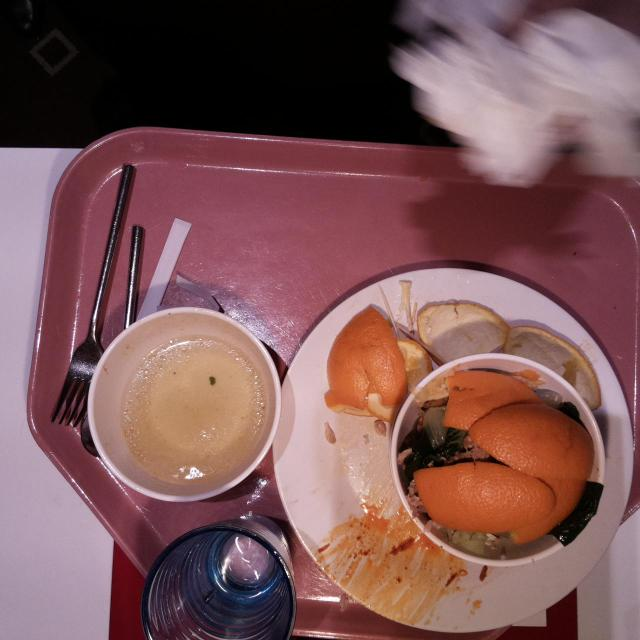Orange-peel: (467, 407, 589, 511), (413, 459, 569, 534), (326, 305, 406, 417), (504, 324, 602, 414), (443, 371, 547, 433), (416, 300, 510, 356)
Vegetable: (400, 404, 464, 482)
